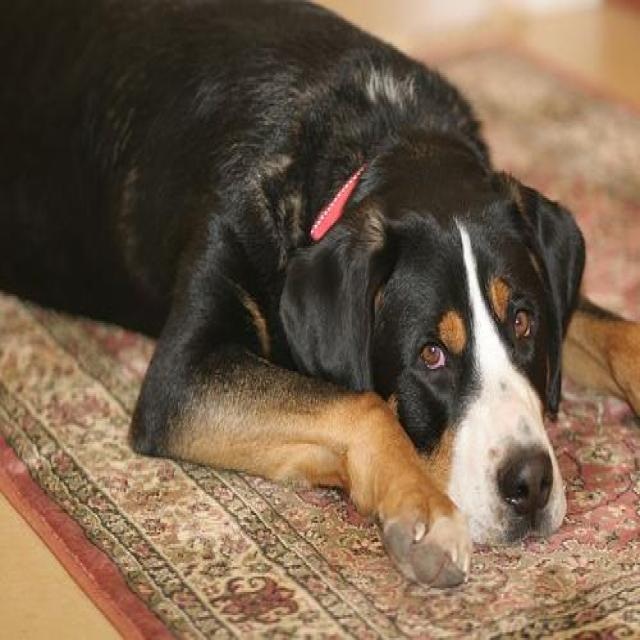adult_dog: (1, 2, 635, 591)
